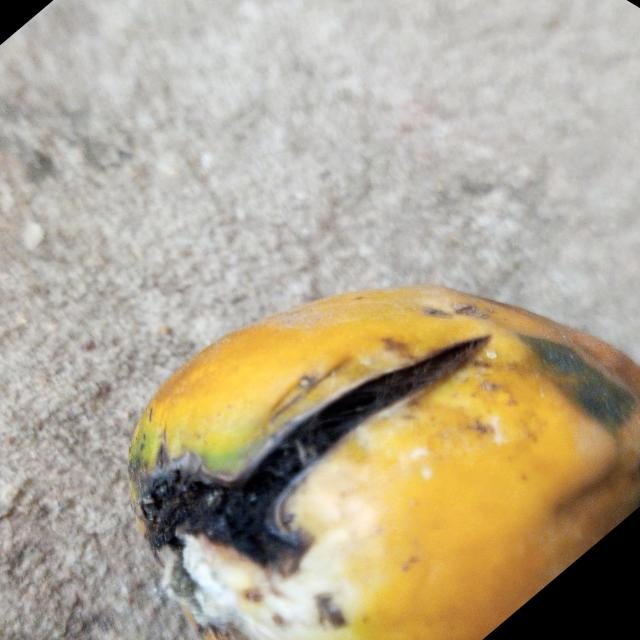damaged: (127, 286, 640, 640)
